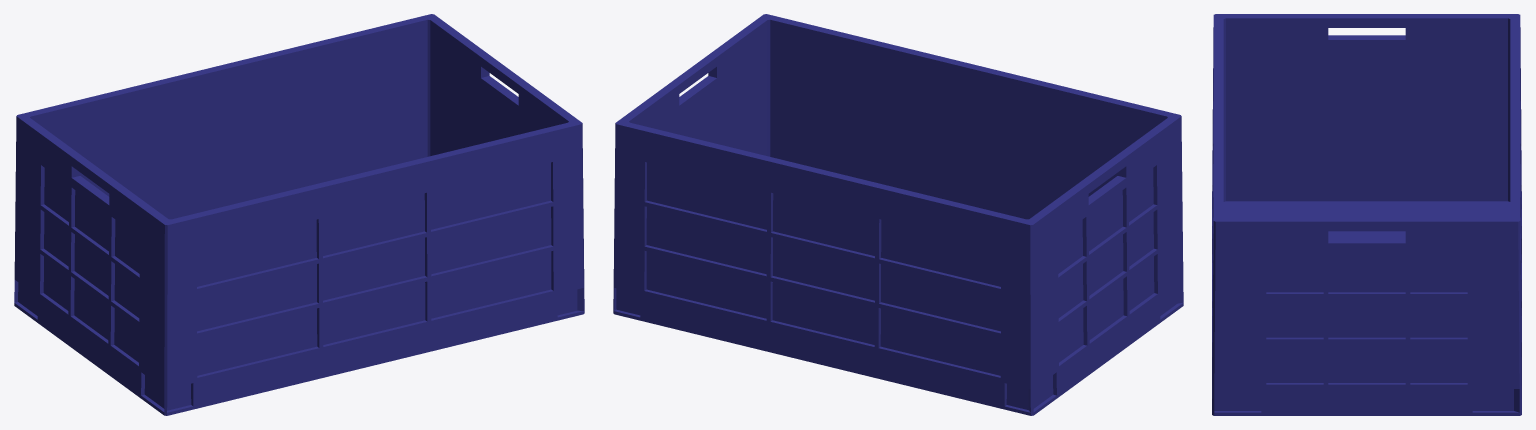
Rendered from TRAY.fbx.
3 views of the same model, side by side, from view 1: azimuth 30°, elevation 25°; view 2: azimuth 150°, elevation 25°; view 3: azimuth 270°, elevation 25° (orthographic).
Parts seen in each view (by area): view 1: box; view 2: box; view 3: box.
Part boxes in pixels (x1=…): box: x1=14, y1=14, x2=584, y2=415; box: x1=613, y1=14, x2=1183, y2=415; box: x1=1212, y1=14, x2=1521, y2=415.
Size of the model in its own units: 72.97 by 31.5 by 45.71.
